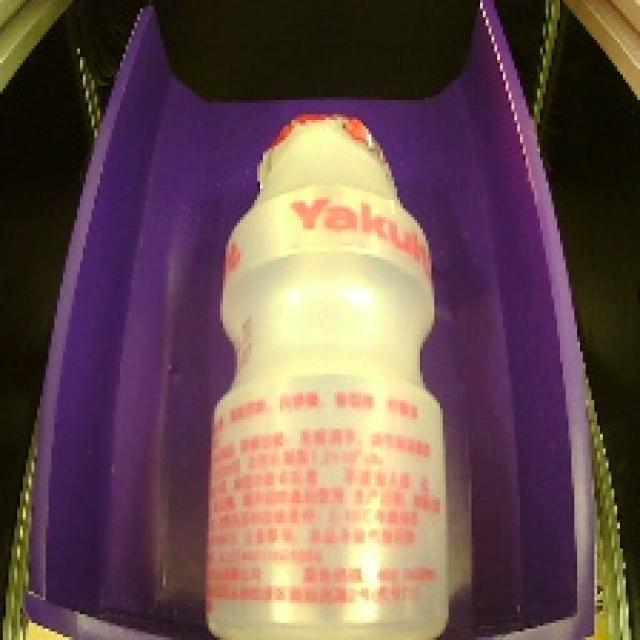plastic: (188, 93, 459, 640)
